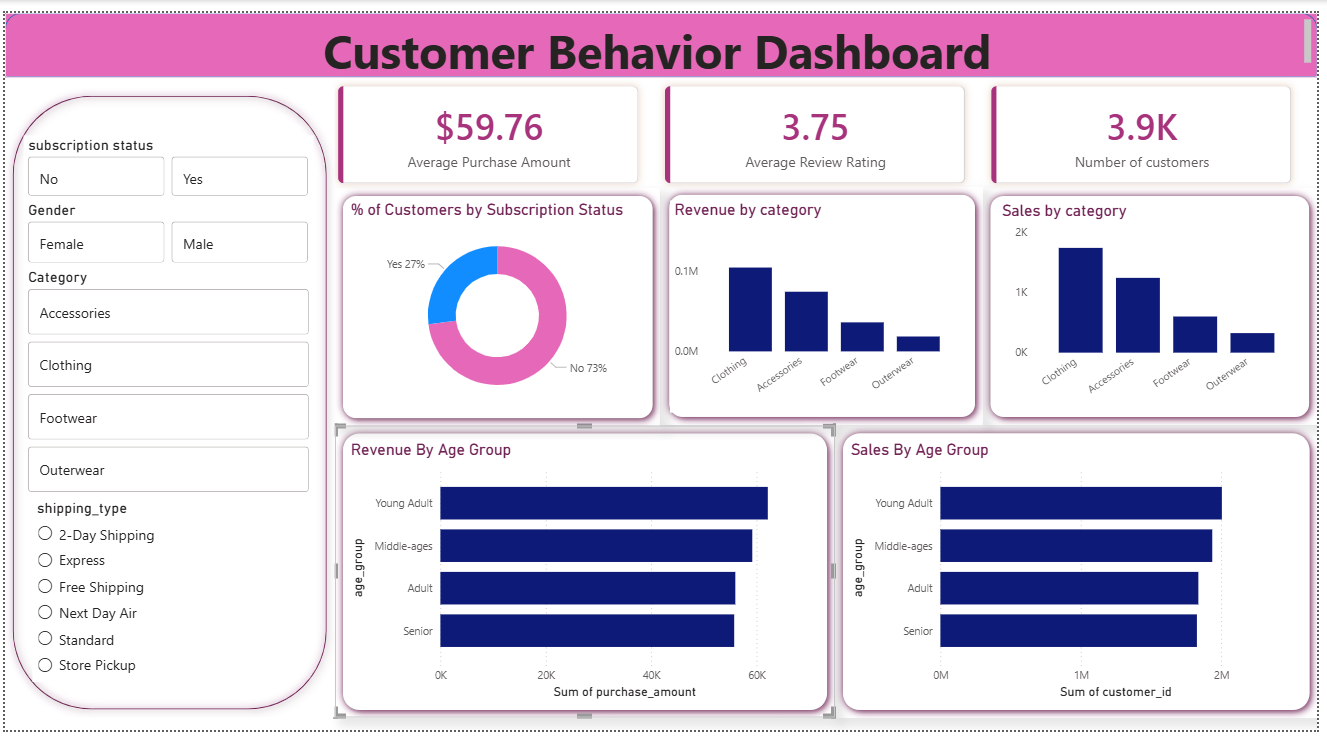

Layout of this report page (visuals, bound fields, positions):
{"tool":"powerbi","page":{"name":"Page 1","canvas":[1500,820],"ordinal":0},"visuals":[{"type":"shape","box":[377.1,471.4,571.4,334.3],"z":0},{"type":"cardVisual","fields":{"Data":["customer_behaviour customer.Average Purchase Amount","customer_behaviour customer.Average Review Rating","customer_behaviour customer.Number of customers"]},"box":[352.9,55.9,1147.1,167.6],"z":1000},{"type":"shape","box":[0,0,1500,73.5],"z":2000},{"type":"textbox","box":[0,0,1500,73.5],"z":3000},{"type":"shape","box":[376.5,200,372.1,272.1],"z":4000},{"type":"donutChart","title":"% of Customers by Subscription Status","fields":{"Category":["customer_behaviour customer.subscription_status"],"Y":["CountNonNull(customer_behaviour customer.customer_id)"]},"box":[389.7,214.7,345.6,242.6],"z":5000},{"type":"shape","box":[750,198.5,367.6,272.1],"z":6000},{"type":"shape","box":[1117.6,200,382.4,270.6],"z":7000},{"type":"clusteredColumnChart","title":"Revenue by category","fields":{"Y":["Sum(customer_behaviour customer.purchase_amount)"],"Category":["customer_behaviour customer.category"]},"box":[760.3,214.7,341.2,242.6],"z":8000},{"type":"clusteredColumnChart","title":"Sales by category","fields":{"Y":["CountNonNull(customer_behaviour customer.customer_id)"],"Category":["customer_behaviour customer.category"]},"box":[1133.8,216.2,350,242.6],"z":9000},{"type":"shape","box":[0,85.3,376.5,719.1],"z":10000},{"type":"advancedSlicerVisual","fields":{"Values":["customer_behaviour customer.subscription_status"]},"box":[21.4,140,331.4,74.3],"z":11000},{"type":"advancedSlicerVisual","fields":{"Values":["customer_behaviour customer.gender"]},"box":[21.4,214.3,331.4,77.1],"z":12000},{"type":"advancedSlicerVisual","fields":{"Values":["customer_behaviour customer.category"]},"box":[21.4,291.4,331.4,264.3],"z":13000},{"type":"listSlicer","fields":{"Values":["customer_behaviour customer.shipping_type"]},"box":[31.4,555.7,244.3,208.6],"z":14000},{"type":"clusteredBarChart","title":"Revenue By Age Group","fields":{"Y":["Sum(customer_behaviour customer.purchase_amount)"],"Category":["customer_behaviour customer.age_group"]},"box":[390,488.6,544.3,300],"z":15000},{"type":"shape","box":[948.6,471.4,551.4,334.3],"z":16000},{"type":"clusteredBarChart","title":"Sales By Age Group","fields":{"Y":["Sum(customer_behaviour customer.customer_id)"],"Category":["customer_behaviour customer.age_group"]},"box":[961.4,488.6,522.9,300],"z":17000}]}

Visuals, with their boxes in screenshot pixels (x1, y1, x2, y2), scaled from the page's 1500x820 canvas onto the 1327x742 screenshot:
shape: bbox=(334, 427, 839, 729)
cardVisual - customer_behaviour customer.Average Purchase Amount x customer_behaviour customer.Average Review Rating: bbox=(312, 51, 1326, 202)
shape: bbox=(0, 0, 1326, 67)
textbox: bbox=(0, 0, 1326, 67)
shape: bbox=(333, 181, 662, 427)
"% of Customers by Subscription Status" donutChart: bbox=(345, 194, 650, 414)
shape: bbox=(664, 180, 989, 426)
shape: bbox=(989, 181, 1326, 426)
"Revenue by category" clusteredColumnChart: bbox=(673, 194, 974, 414)
"Sales by category" clusteredColumnChart: bbox=(1003, 196, 1313, 415)
shape: bbox=(0, 77, 333, 728)
advancedSlicerVisual - customer_behaviour customer.subscription_status: bbox=(19, 127, 312, 194)
advancedSlicerVisual - customer_behaviour customer.gender: bbox=(19, 194, 312, 264)
advancedSlicerVisual - customer_behaviour customer.category: bbox=(19, 264, 312, 503)
listSlicer - customer_behaviour customer.shipping_type: bbox=(28, 503, 244, 692)
"Revenue By Age Group" clusteredBarChart: bbox=(345, 442, 827, 714)
shape: bbox=(839, 427, 1326, 729)
"Sales By Age Group" clusteredBarChart: bbox=(851, 442, 1313, 714)
